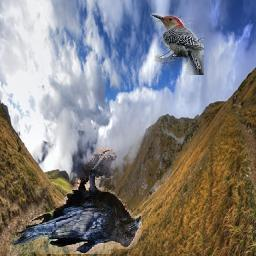Crow: (10, 148, 142, 254)
Woodpecker: (150, 13, 204, 75)
